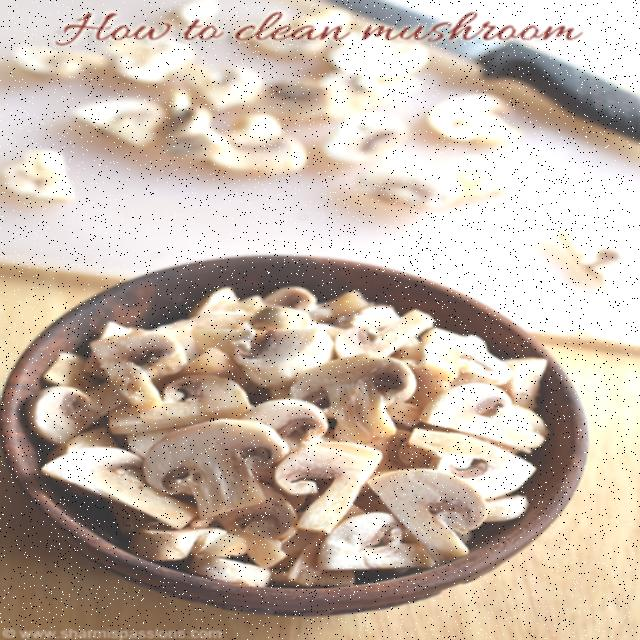Mushroom: (74, 302, 511, 544)
